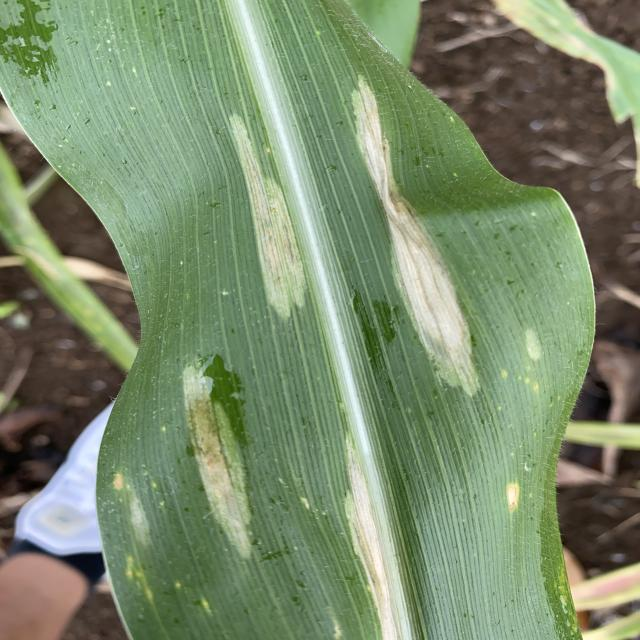Corn_Leaf_Blight: (99, 0, 597, 640)
